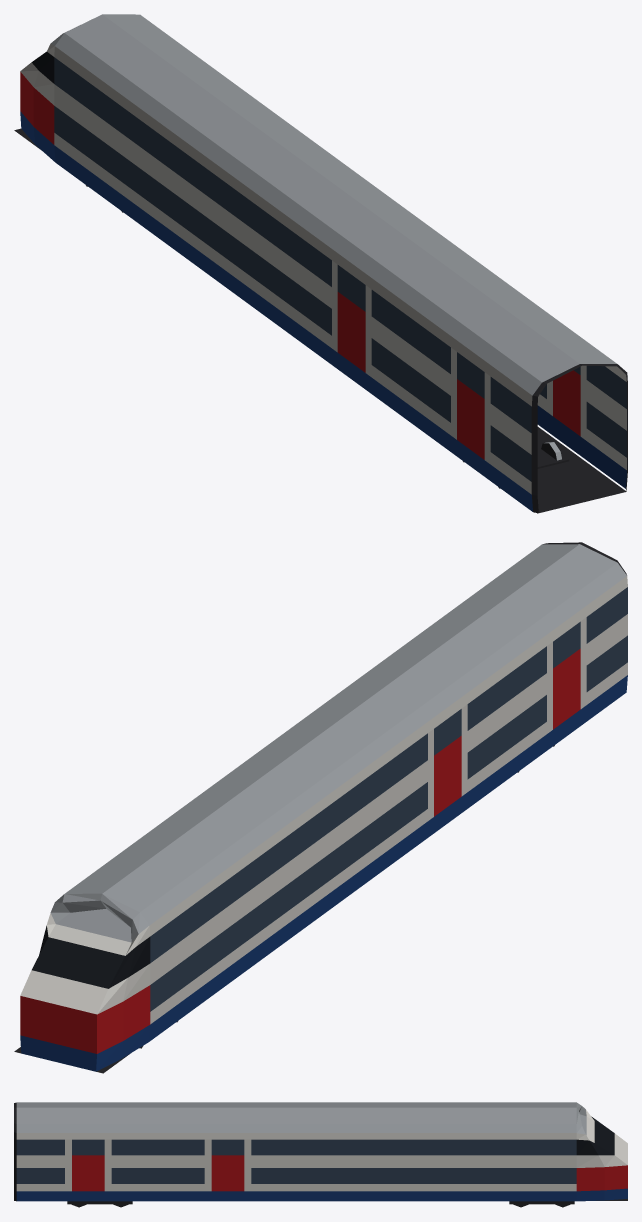
Rendered from sbahn_head.glb.
3 renders of one model, top to bottom at view 1: azimuth 30°, elevation 25°; view 2: azimuth 150°, elevation 25°; view 3: azimuth 270°, elevation 25°, orthographic. The views are drawn at different scales.
Parts seen in each view (by area): view 1: sbahn_head; view 2: sbahn_head; view 3: sbahn_head.
Part boxes in pixels (x1,y1,x2,y2): sbahn_head: (14, 14, 627, 513); sbahn_head: (14, 542, 627, 1073); sbahn_head: (14, 1102, 627, 1207).
Bounding box in the file's own units: 2.8 × 4.36 × 26.4.
